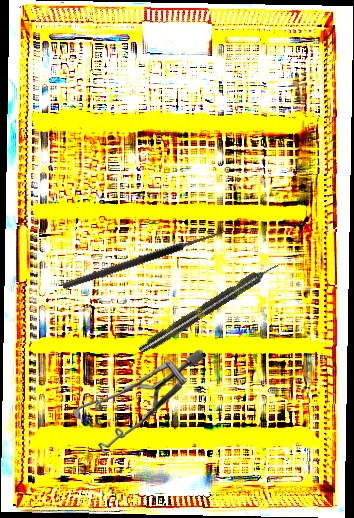Handpiece: (136, 259, 282, 357)
Hook Surgical: (58, 216, 233, 292)
Speculum: (71, 349, 207, 456)
